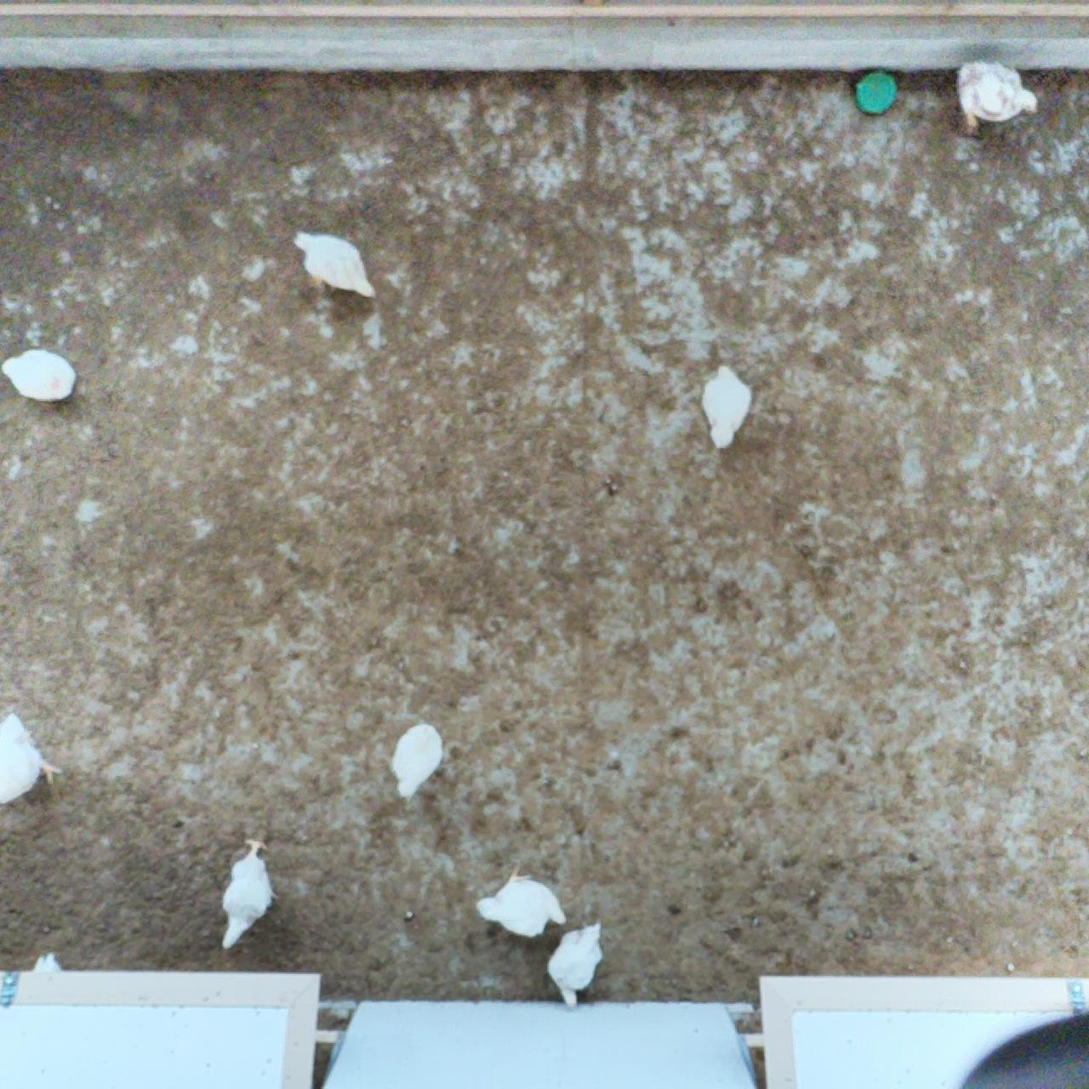chicken: (215, 835, 288, 954), (285, 227, 388, 310), (472, 860, 571, 942), (953, 53, 1045, 141), (0, 710, 65, 813), (544, 915, 608, 1012), (696, 360, 756, 455), (0, 342, 82, 406), (387, 719, 448, 802)
